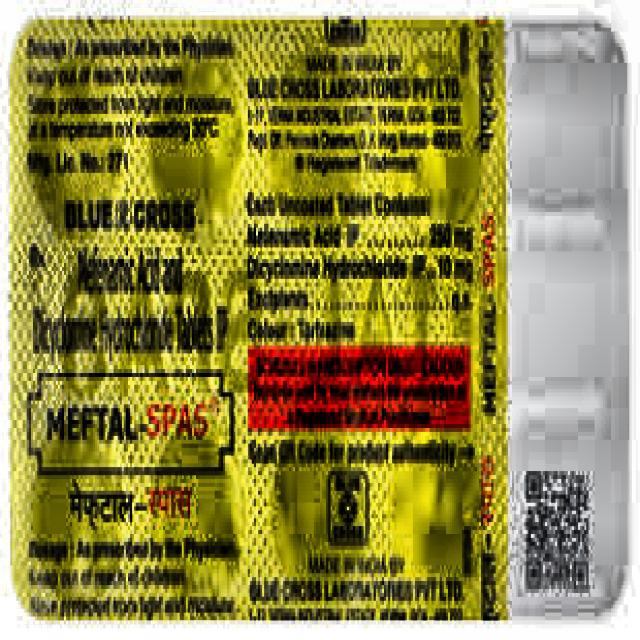Meftal: (26, 372, 238, 479)
